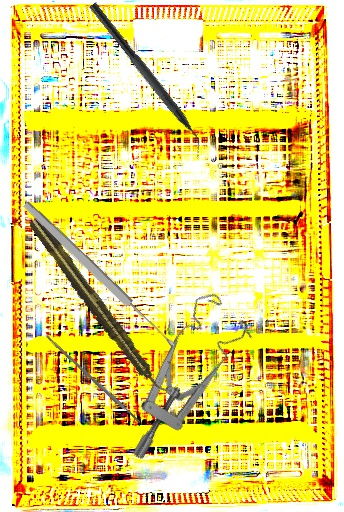Chopper: (78, 1, 214, 161)
Handpiece: (24, 211, 172, 402)
Scalpel Handle: (43, 333, 143, 426)
Speculum: (80, 283, 277, 462)
Surgical Spoon: (21, 199, 178, 351)
